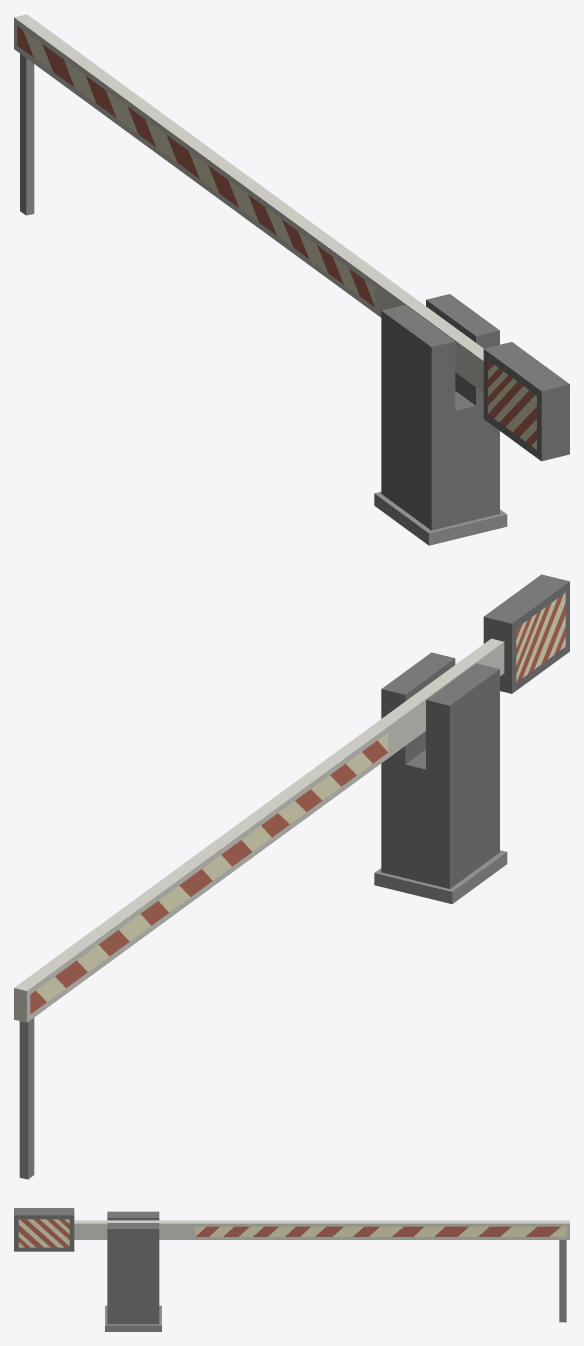
The model's file is barrier.fbx.
3 views of the same model, one above another, from view 1: azimuth 30°, elevation 25°; view 2: azimuth 150°, elevation 25°; view 3: azimuth 270°, elevation 25° (orthographic). The views are drawn at different scales.
Parts seen in each view (by area): view 1: Cube_10, Cube_11; view 2: Cube_10, Cube_11; view 3: Cube_10, Cube_11.
Part boxes in pixels (x1,y1,x2,y2): Cube_10: (14, 14, 569, 461); Cube_11: (374, 294, 507, 545); Cube_10: (14, 574, 569, 1179); Cube_11: (374, 652, 507, 904); Cube_10: (14, 1208, 569, 1322); Cube_11: (105, 1211, 161, 1331).
Size of the model in its own units: 61.87 by 161 by 735.
